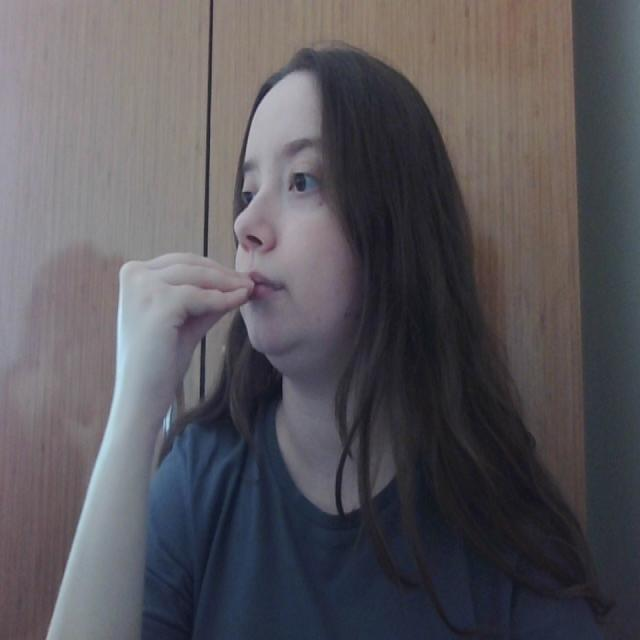Yemek: (112, 247, 291, 320)
